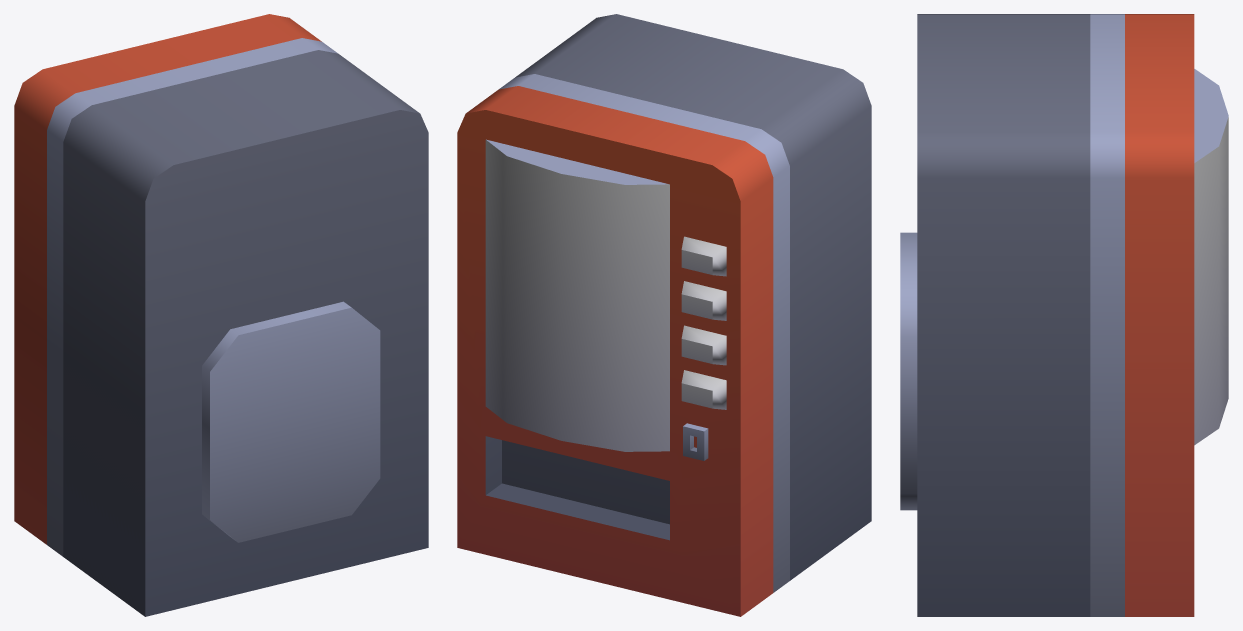
Rendered from vending.fbx.
3 views of the same model, side by side, from view 1: azimuth 30°, elevation 25°; view 2: azimuth 150°, elevation 25°; view 3: azimuth 270°, elevation 25° (orthographic). The views are drawn at different scales.
Visible parts, largest first — view 1: vending-machine; view 2: vending-machine; view 3: vending-machine.
Part boxes in pixels (left/top/right/bottom): vending-machine: left=14, top=14, right=428, bottom=616; vending-machine: left=457, top=14, right=871, bottom=616; vending-machine: left=900, top=14, right=1228, bottom=616.
Bounding box in the file's own units: 0.6667 × 1 × 0.6333.
